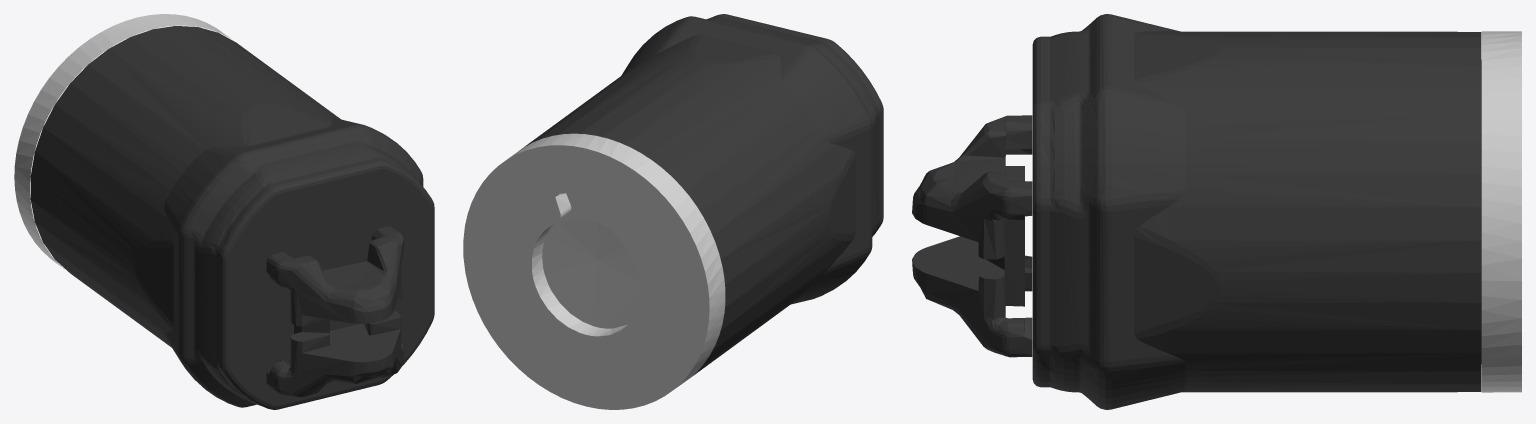
The model's file is forearm_E3M5.glb.
The picture shows the model from 3 angles, left to right: view 1: azimuth 30°, elevation 25°; view 2: azimuth 150°, elevation 25°; view 3: azimuth 270°, elevation 25°; orthographic projection. The views are drawn at different scales.
Parts seen in each view (by area): view 1: world; view 2: world; view 3: world.
Boxes of the visible parts, x1,y1,x2,y2 form: world: [14, 14, 434, 409]; world: [463, 14, 883, 409]; world: [912, 14, 1521, 409].
Size of the model in its own units: 0.135 by 0.1351 by 0.228.
Materials: 1 (1 with a texture image).
